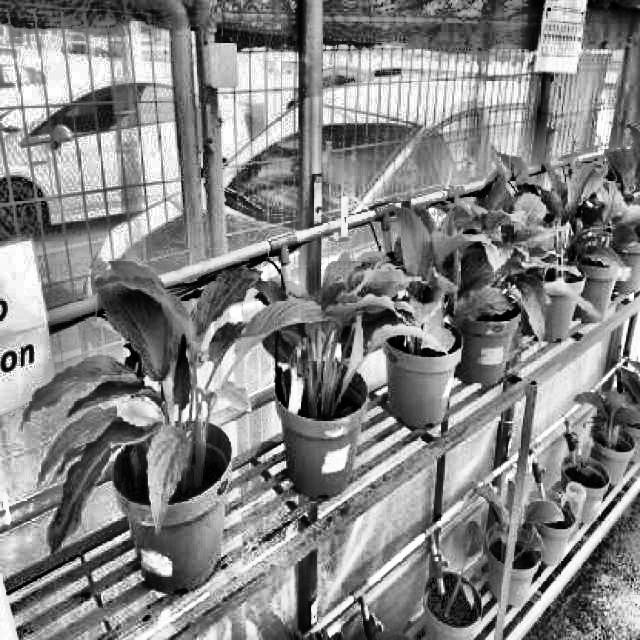plants: (22, 253, 324, 550), (246, 243, 444, 428), (368, 200, 508, 358)
